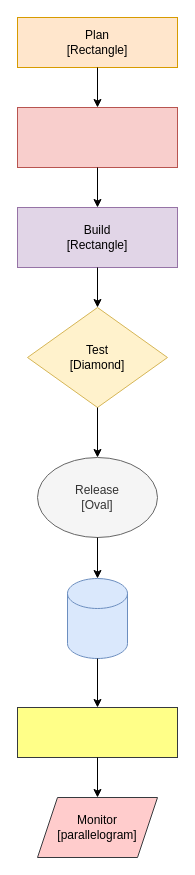
This 195x875 diagram has some shape labels left out. The shapes that lost their labels are listed below. From the top down, each one's centre as x and y in pixels, then its label:
At point 97,137: "Develop [Rectangle]".
At point 97,618: "Deploy [Cylinder]".
At point 97,732: "Operate [Rectangle]".
